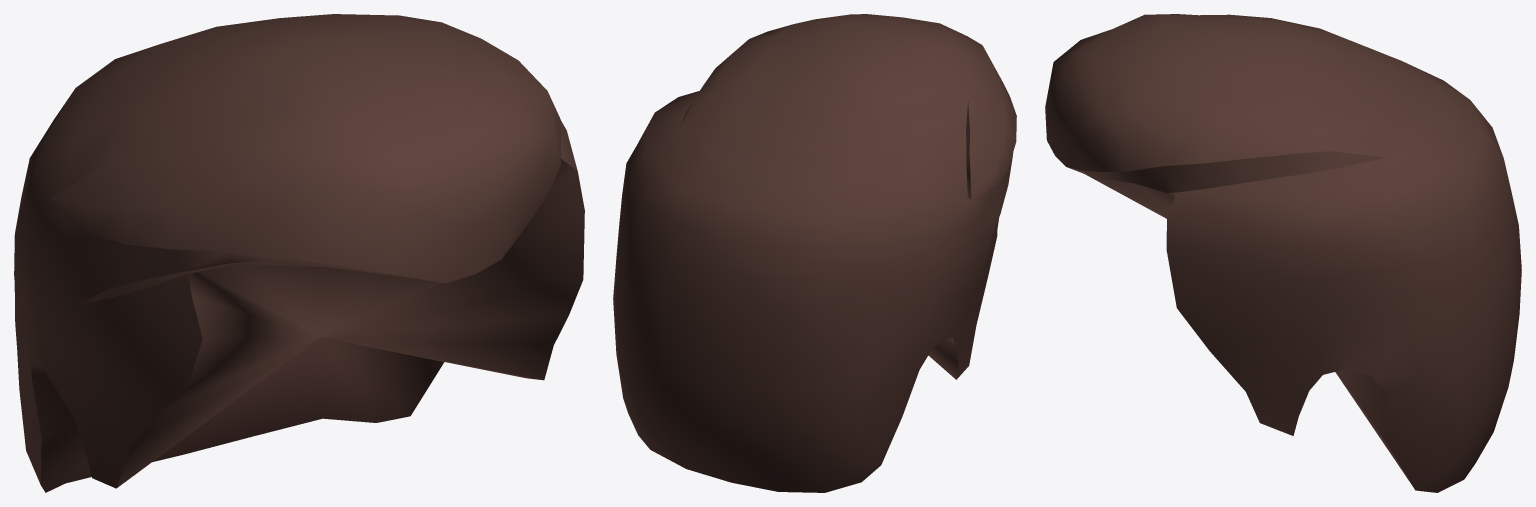
File: Racer_Head_01_Hair.fbx
The picture shows the model from 3 angles, left to right: view 1: azimuth 30°, elevation 25°; view 2: azimuth 150°, elevation 25°; view 3: azimuth 270°, elevation 25°; orthographic projection. The views are drawn at different scales.
Visible parts, largest first — view 1: Racer_Head_01_Hair; view 2: Racer_Head_01_Hair; view 3: Racer_Head_01_Hair.
Part boxes in pixels (x1,y1,x2,y2): Racer_Head_01_Hair: (14,14,584,492); Racer_Head_01_Hair: (613,14,1016,492); Racer_Head_01_Hair: (1045,14,1521,492).
Size of the model in its own units: 25.59 by 29.23 by 26.88.
